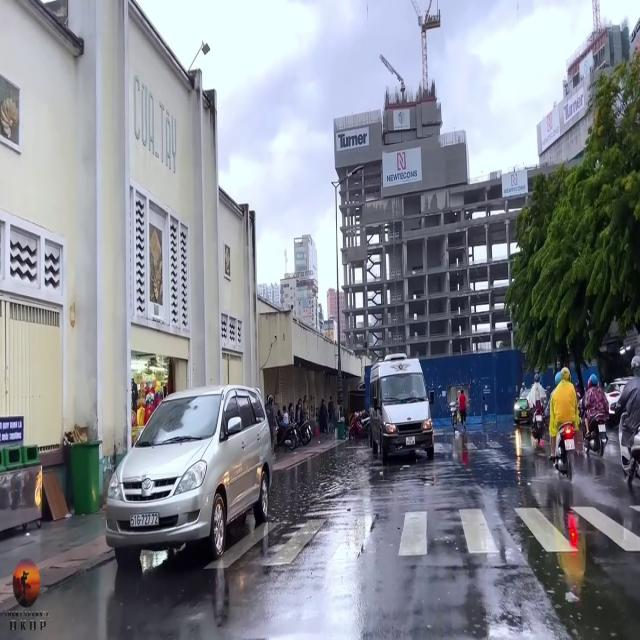bien_trang: (125, 512, 158, 528)
